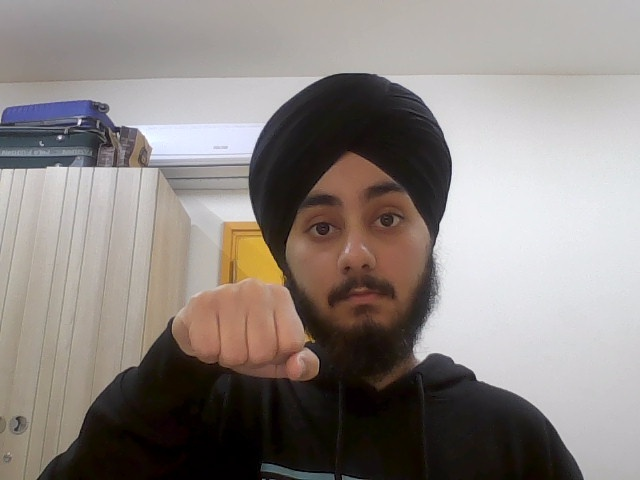Yes: (176, 277, 322, 394)
